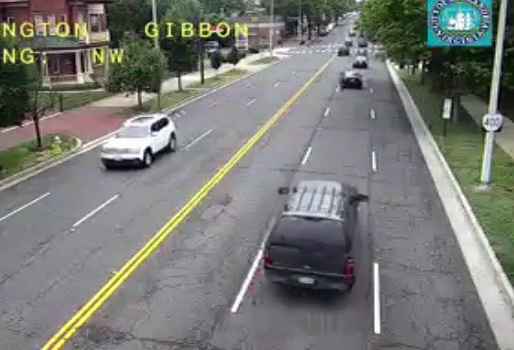car: (264, 179, 355, 294), (338, 72, 362, 88)
